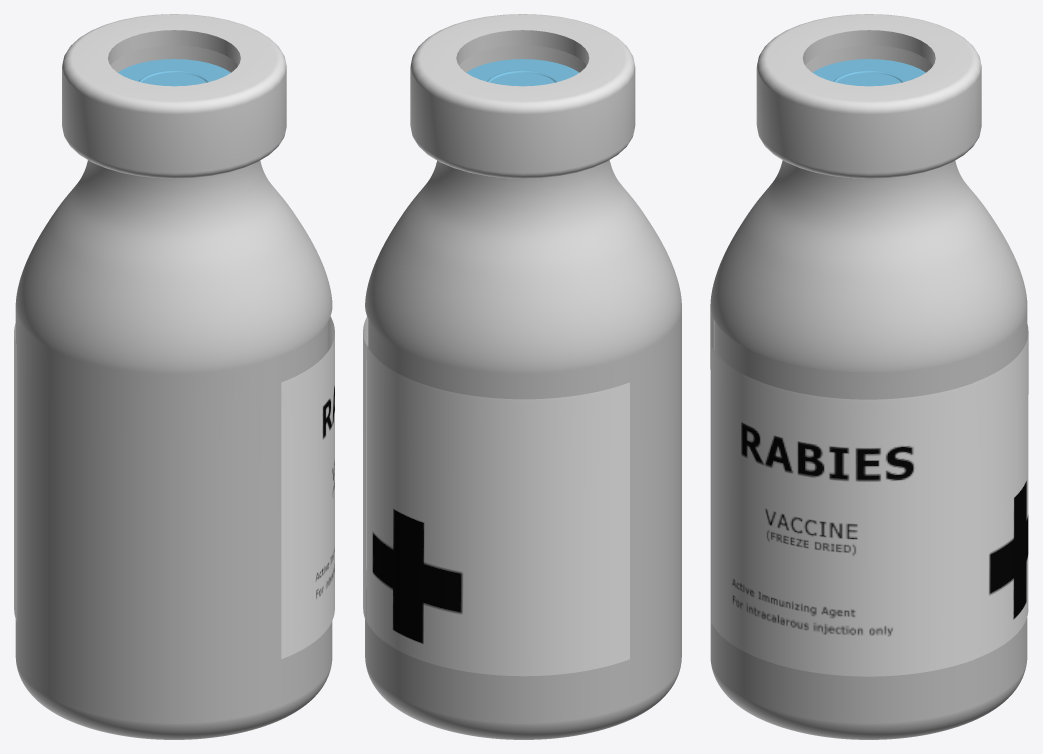
Rendered from rabies_vial.fbx.
3 renders of one model, left to right at view 1: azimuth 30°, elevation 25°; view 2: azimuth 150°, elevation 25°; view 3: azimuth 270°, elevation 25°, orthographic.
Parts seen in each view (by area): view 1: Outer_bottle, Lid Metal, Label, Lid, Label.001; view 2: Outer_bottle, Label.001, Lid Metal, Lid, Label; view 3: Outer_bottle, Label, Lid Metal, Label.001, Lid.
Part boxes in pixels (bbox=[...]): Outer_bottle: bbox=[15, 160, 332, 739]; Lid Metal: bbox=[62, 14, 286, 178]; Label: bbox=[281, 316, 334, 659]; Lid: bbox=[118, 59, 230, 86]; Label.001: bbox=[14, 323, 17, 621]; Outer_bottle: bbox=[365, 160, 681, 739]; Label.001: bbox=[366, 345, 629, 676]; Lid Metal: bbox=[410, 14, 635, 178]; Lid: bbox=[466, 59, 579, 86]; Label: bbox=[363, 316, 368, 621]; Outer_bottle: bbox=[710, 160, 1027, 739]; Label: bbox=[711, 346, 974, 676]; Lid Metal: bbox=[756, 14, 981, 178]; Label.001: bbox=[974, 324, 1028, 658]; Lid: bbox=[812, 59, 925, 86].
Size of the model in its own units: 240 by 520 by 239.
